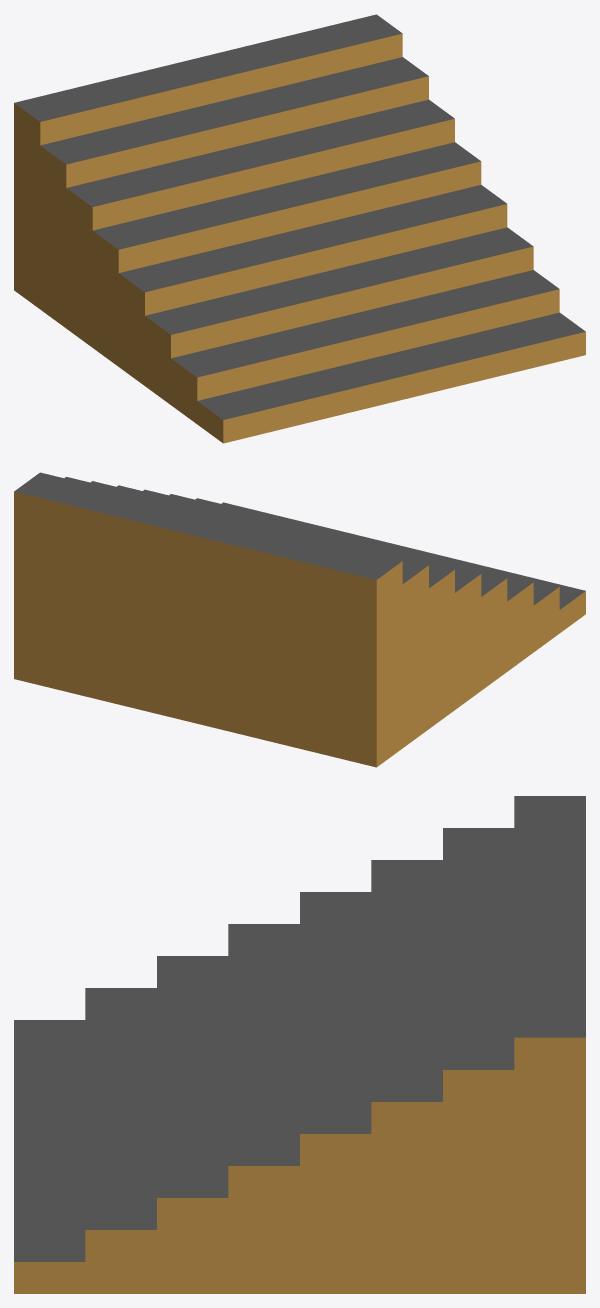
The model's file is Skate_Stairs_01.FBX.
3 views of the same model, one above another, from view 1: azimuth 30°, elevation 25°; view 2: azimuth 150°, elevation 25°; view 3: azimuth 270°, elevation 25° (orthographic). The views are drawn at different scales.
Visible parts, largest first — view 1: Skate_Stairs_01; view 2: Skate_Stairs_01; view 3: Skate_Stairs_01.
Part boxes in pixels (x1,y1,x2,y2): Skate_Stairs_01: [14, 14, 585, 443]; Skate_Stairs_01: [14, 472, 585, 767]; Skate_Stairs_01: [14, 796, 585, 1293].
Bounding box in the file's own units: 3000 × 1482 × 3000.
